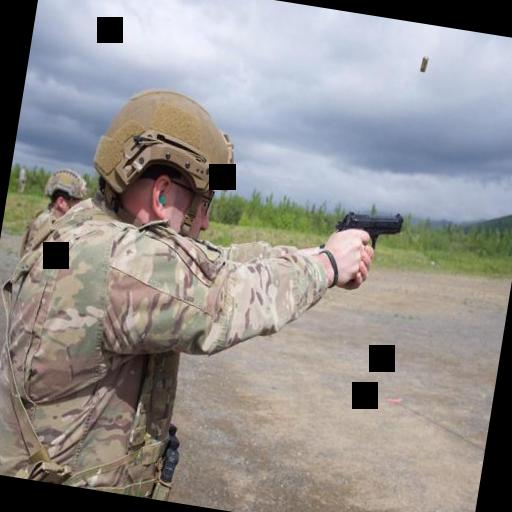Handgun: (322, 202, 404, 292)
